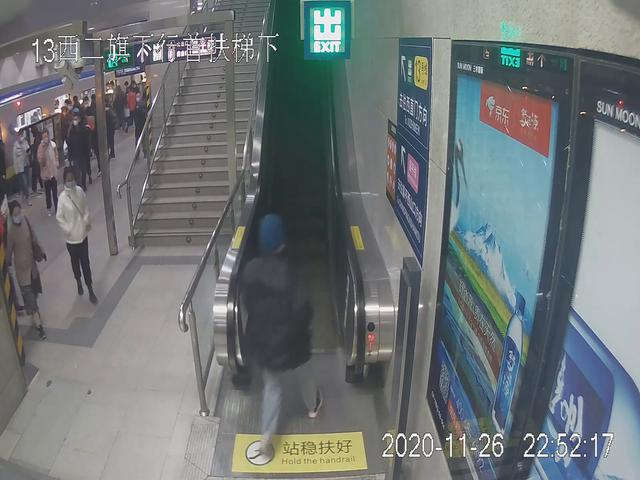person: (240, 210, 322, 457), (56, 166, 104, 307), (4, 200, 51, 338), (31, 130, 64, 214)
